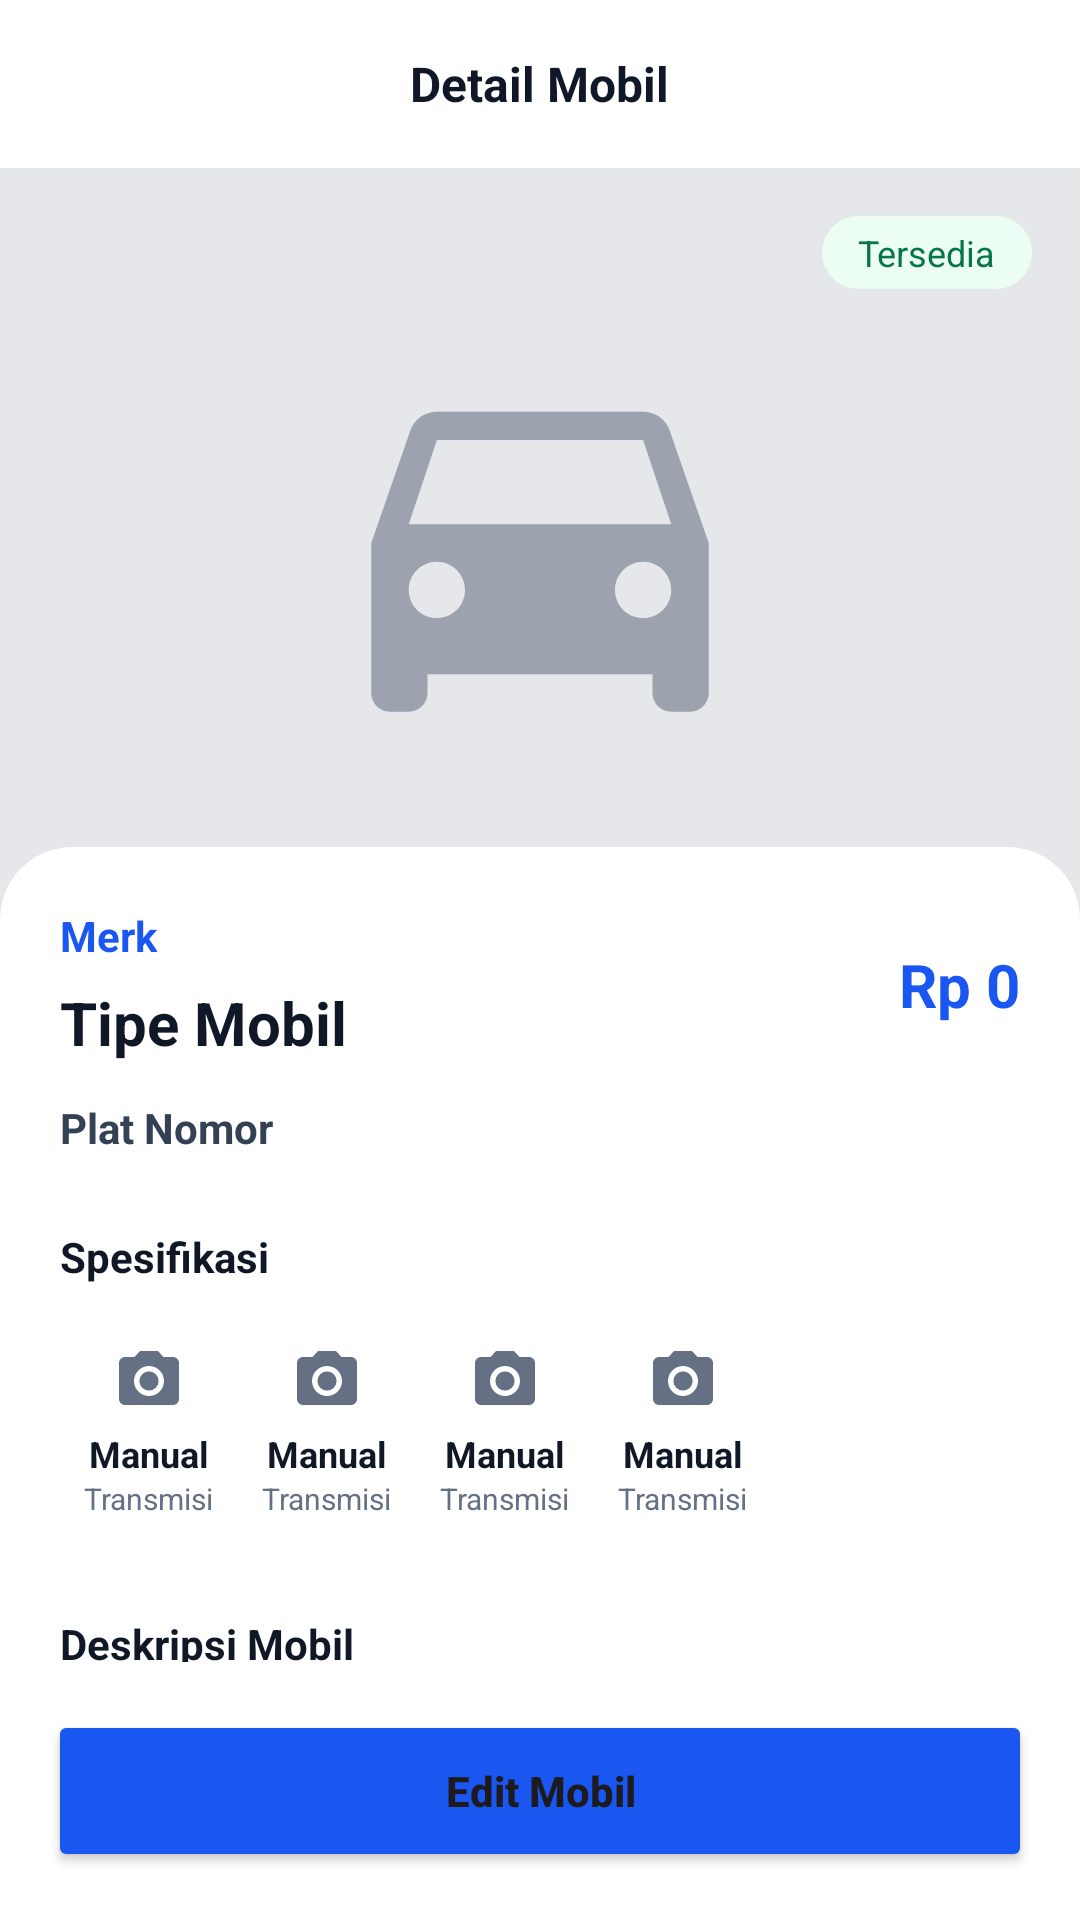

Screen size 1080×1920. Icon name, then its center in pixels as point (x, y):
camera: point (149, 1378), point (327, 1378), point (505, 1378), point (683, 1378)
